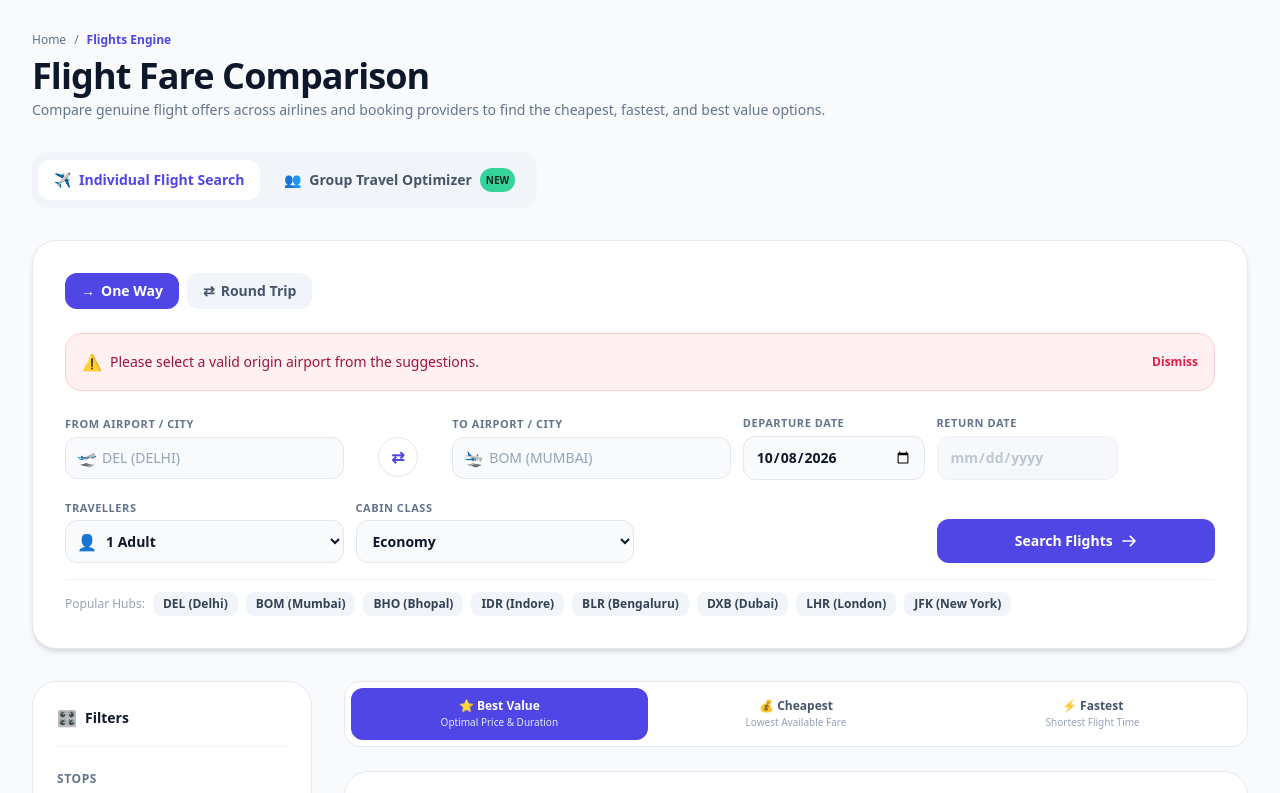
Test: Part 4: Flights Comparison Engine › 1. Flight Search UI › validates that return date must be on or after departure date for round trips
Expected: the button "Search Flights" is shown, [936,519,1215,563]
Click the button "DEL (Delhi)" at (195, 604), box [153,592,238,616]
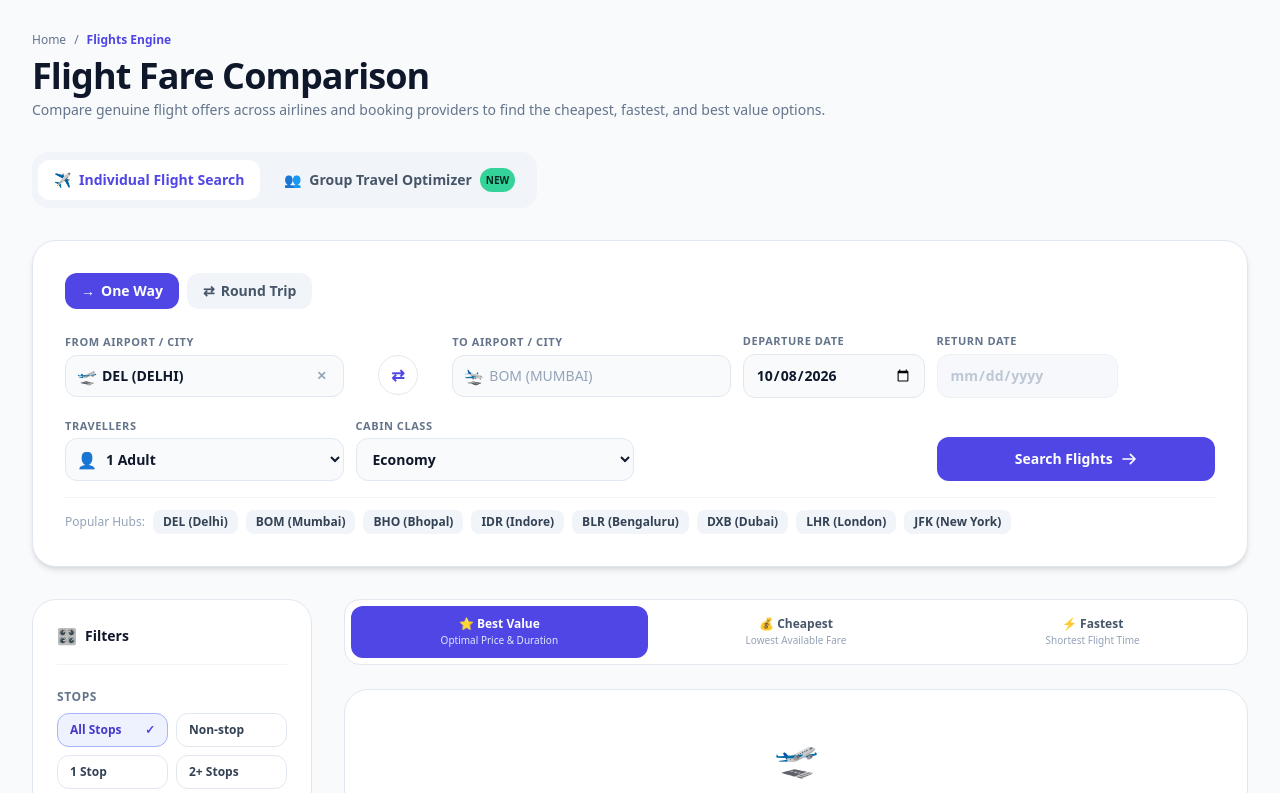
Click the button "BOM (Mumbai)" at (301, 522), box [246,510,355,534]
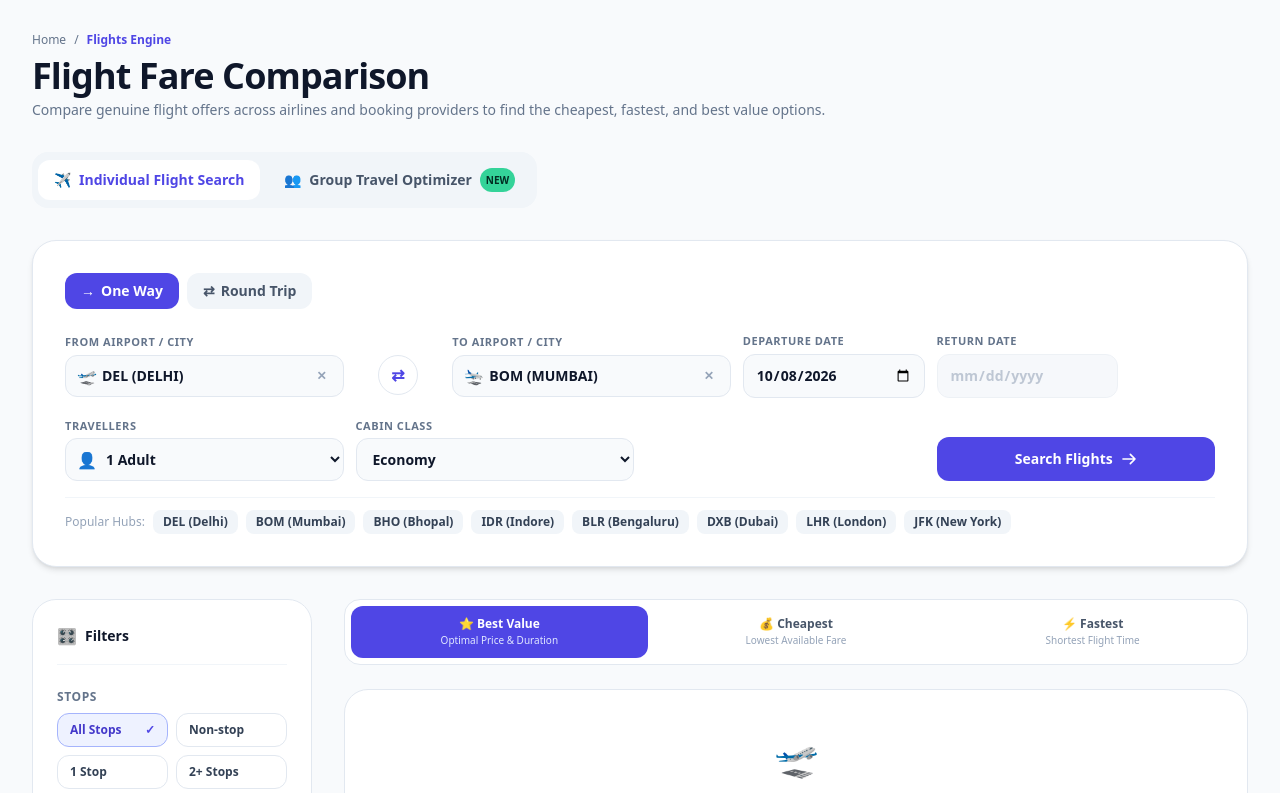
Note: Switch to round trip
Click the button "⇄ Round Trip" at (250, 291), box [187,273,312,309]
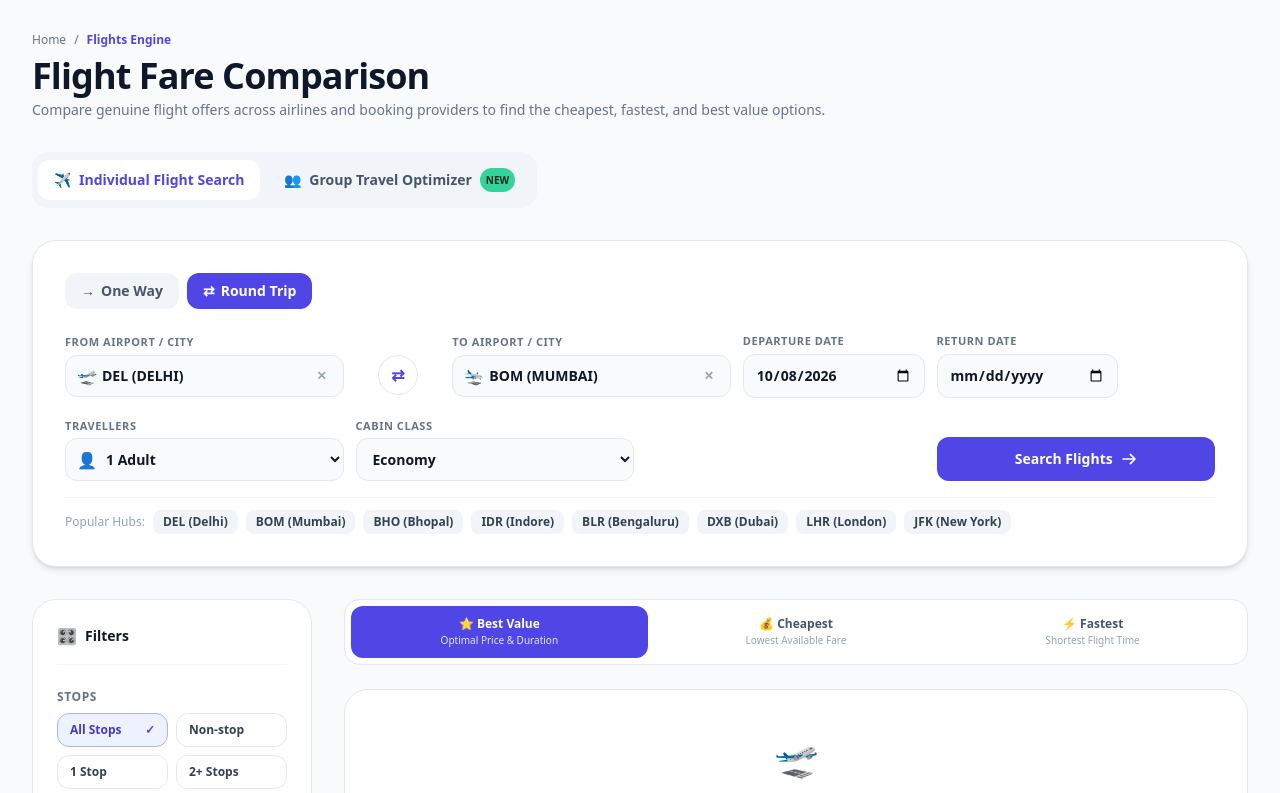
Type "2026-10-15" into the date field labelled "Departure Date" at (834, 376), box [743,354,924,398]
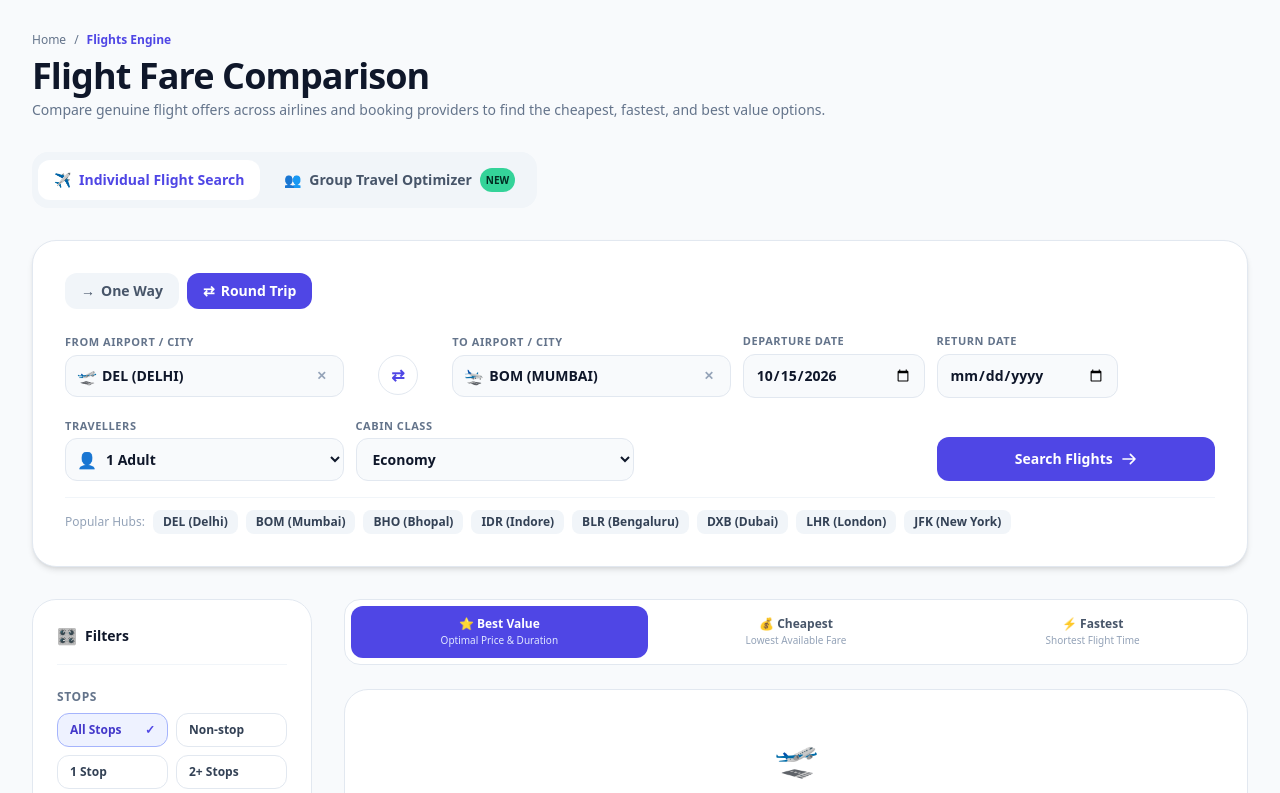
Type "2026-10-10" into the date field labelled "Return Date" at (1027, 376), box [936,354,1118,398]
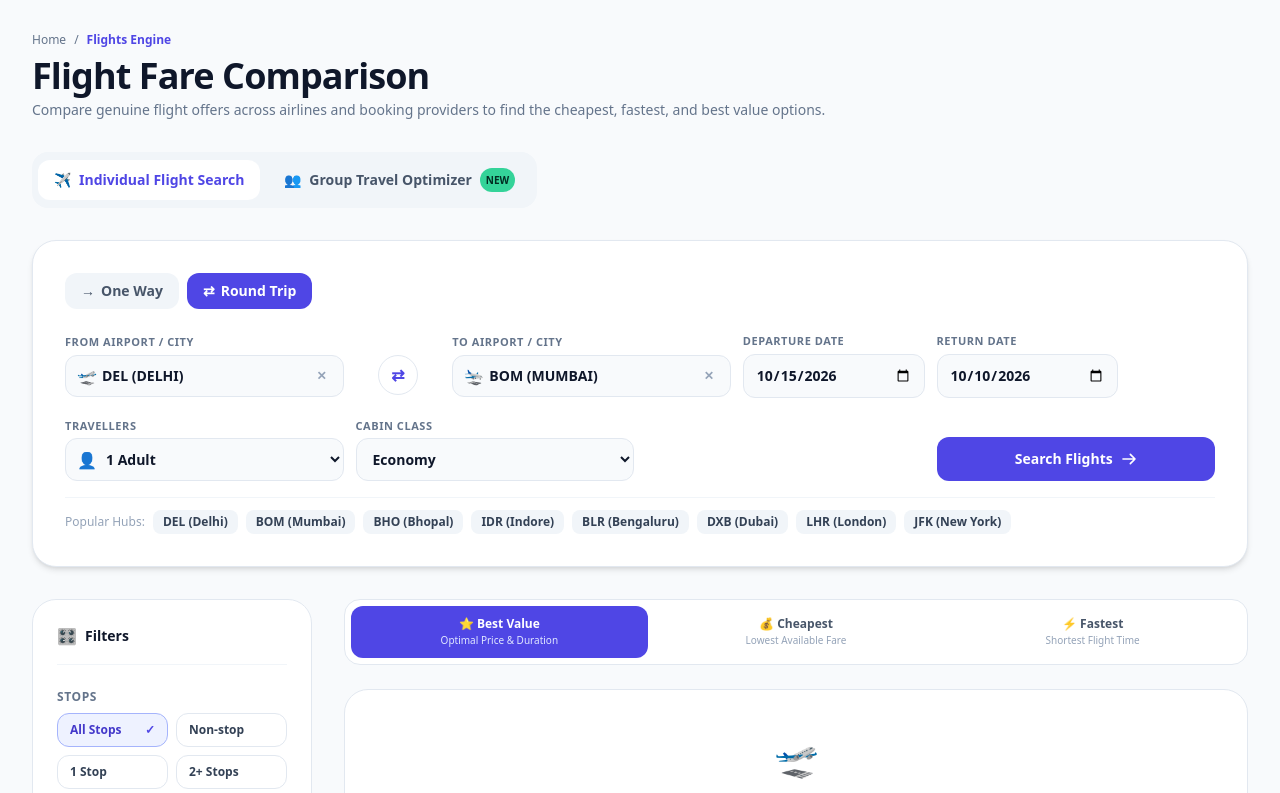
Click the button "Search Flights" at (1076, 459), box [936,437,1215,481]
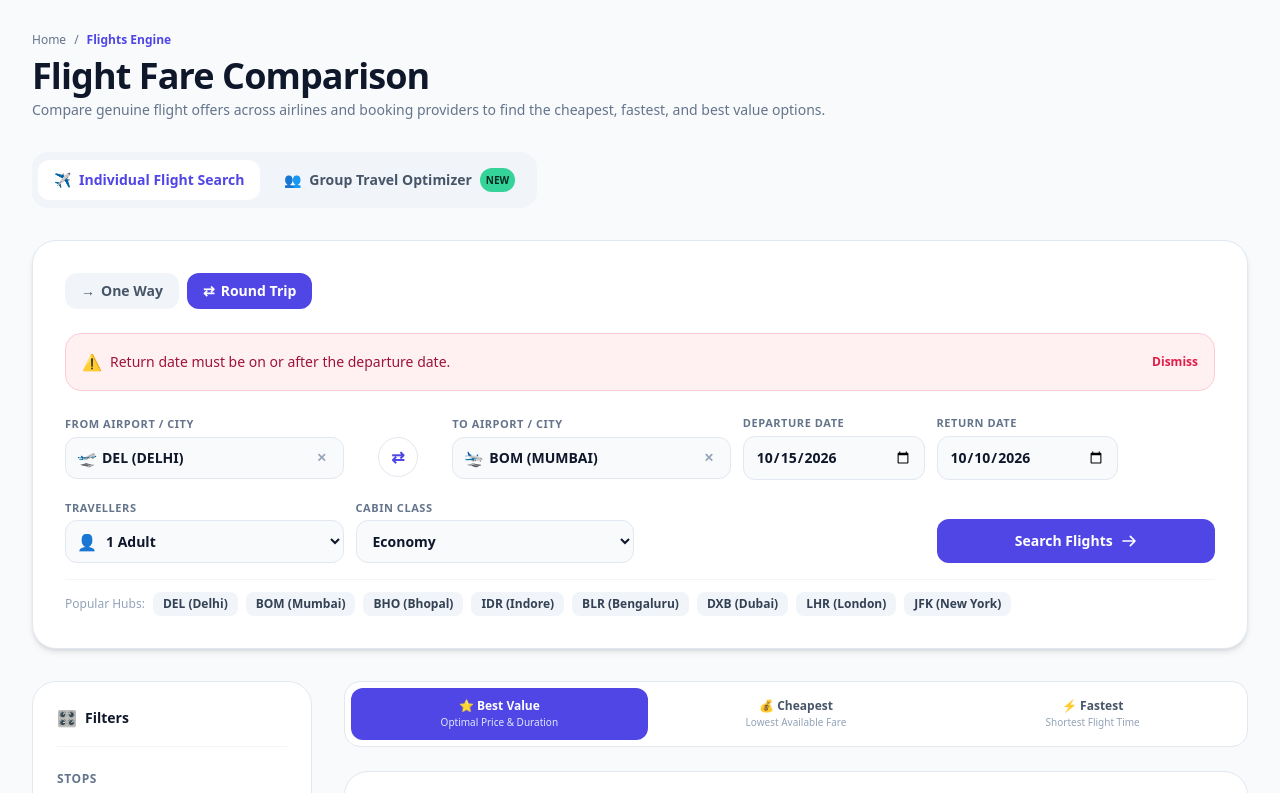
Result: the message shows "Return date must be on or after the departure date" at [110,352,450,371]
